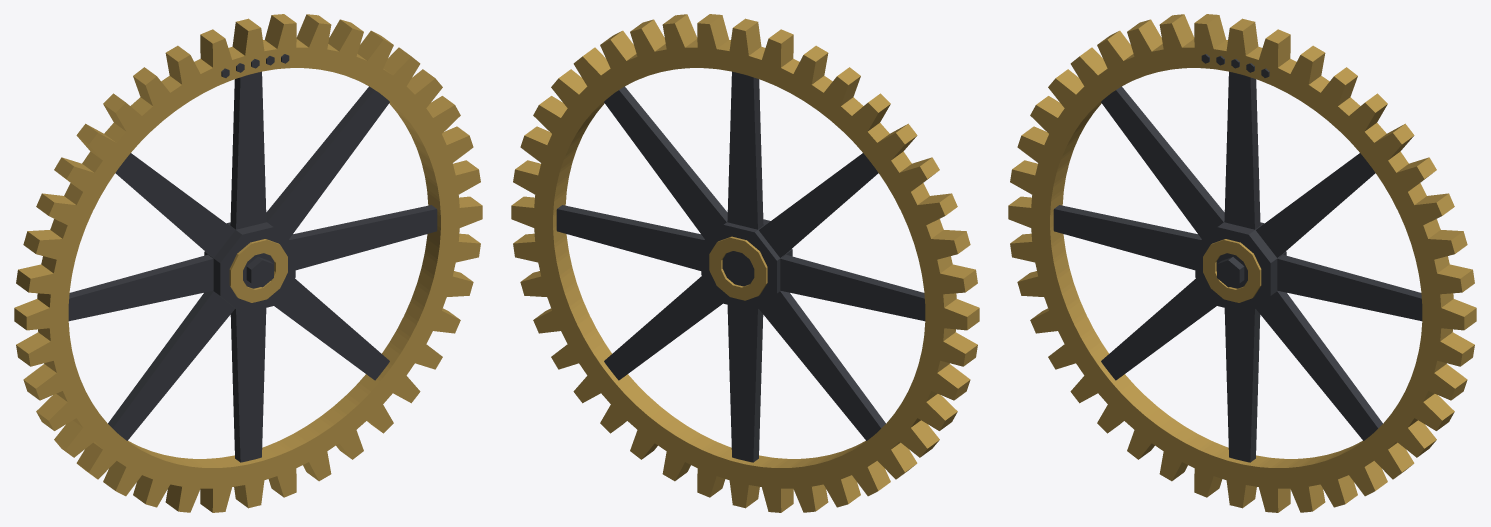
The model's file is gear_xl.fbx.
3 views of the same model, side by side, from view 1: azimuth 30°, elevation 25°; view 2: azimuth 150°, elevation 25°; view 3: azimuth 330°, elevation 25° (orthographic).
Visible parts, largest first — view 1: Gear_Puzzle_XL_Rim, Gear_Puzzle_XL_Spokes, Gear_Puzzle_XL_Hub; view 2: Gear_Puzzle_XL_Rim, Gear_Puzzle_XL_Spokes, Gear_Puzzle_XL_Hub; view 3: Gear_Puzzle_XL_Rim, Gear_Puzzle_XL_Spokes, Gear_Puzzle_XL_Hub.
Part boxes in pixels (x1,y1,x2,y2): Gear_Puzzle_XL_Rim: (14,14,482,512); Gear_Puzzle_XL_Spokes: (68,71,437,462); Gear_Puzzle_XL_Hub: (204,222,295,313); Gear_Puzzle_XL_Rim: (511,14,979,512); Gear_Puzzle_XL_Spokes: (556,71,925,462); Gear_Puzzle_XL_Hub: (701,219,792,311); Gear_Puzzle_XL_Rim: (1008,14,1476,512); Gear_Puzzle_XL_Spokes: (1053,71,1422,462); Gear_Puzzle_XL_Hub: (1195,222,1286,313).
Bounding box in the file's own units: 168 × 168 × 14.
